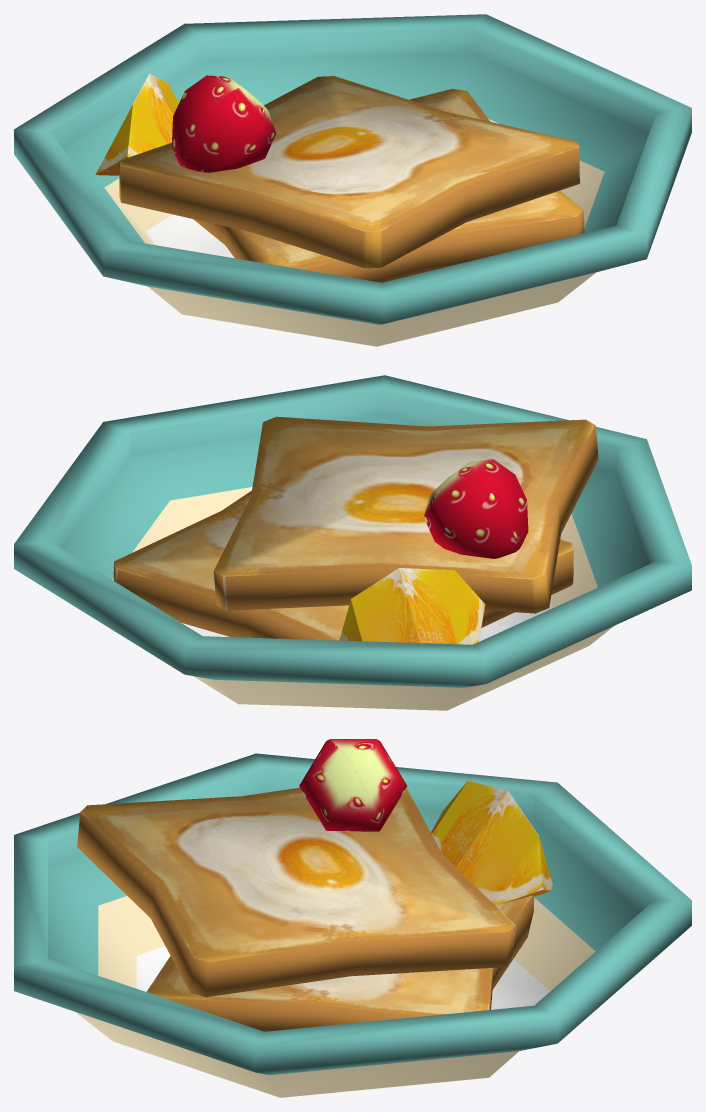
File: toast.glb
3 renders of one model, top to bottom at view 1: azimuth 30°, elevation 25°; view 2: azimuth 150°, elevation 25°; view 3: azimuth 270°, elevation 25°, orthographic. The views are drawn at different scales.
Visible parts, largest first — view 1: Circle, Cube.001, Cube, Sphere, Sphere.001; view 2: Circle, Cube.001, Cube, Sphere.001, Sphere; view 3: Circle, Cube.001, Cube, Sphere.001, Sphere.
Part boxes in pixels (<box>): Circle: <box>14,14,691,346</box>; Cube.001: <box>119,76,579,268</box>; Cube: <box>193,88,584,282</box>; Sphere: <box>171,75,276,172</box>; Sphere.001: <box>95,73,179,175</box>; Circle: <box>14,375,691,710</box>; Cube.001: <box>213,416,598,613</box>; Cube: <box>113,490,573,640</box>; Sphere.001: <box>339,568,485,644</box>; Sphere: <box>423,459,528,558</box>; Circle: <box>14,753,691,1097</box>; Cube.001: <box>77,787,515,997</box>; Cube: <box>146,895,534,1031</box>; Sphere.001: <box>431,780,552,904</box>; Sphere: <box>299,739,406,831</box>.
Size of the model in its own units: 0.4389 by 0.1488 by 0.4279.
Materials: 4 (4 with a texture image).
